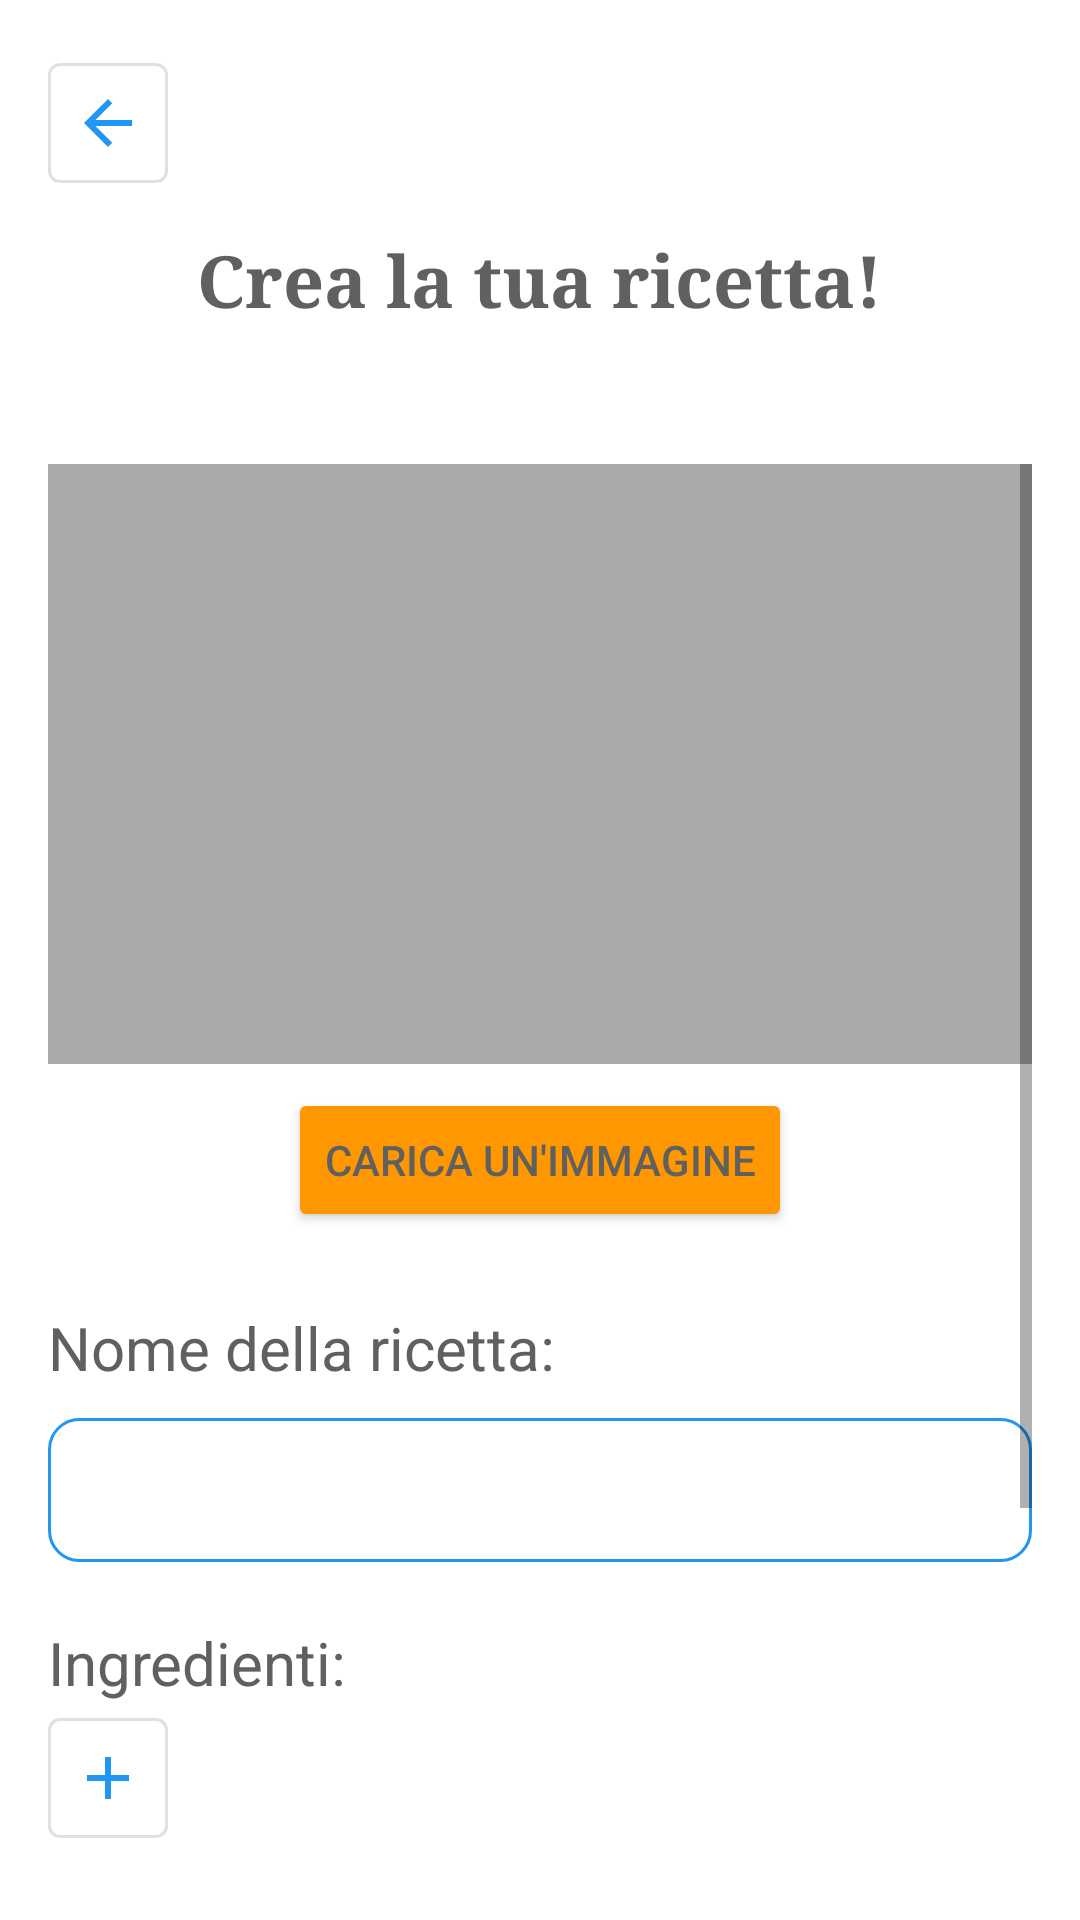

Screen size 1080w x 1920h. Icon name, then its box in pixels as bbox(x1, y1, x2, y2):
add: bbox(48, 1718, 168, 1838)
back: bbox(48, 63, 168, 183)
